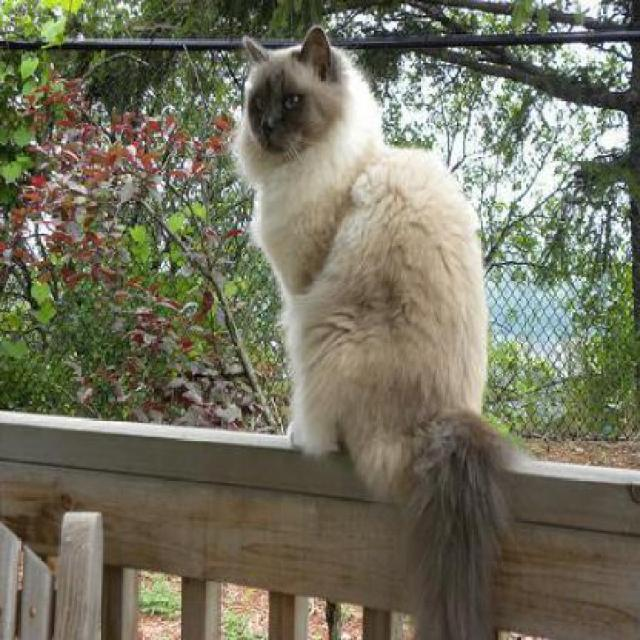cat: (235, 23, 500, 639)
